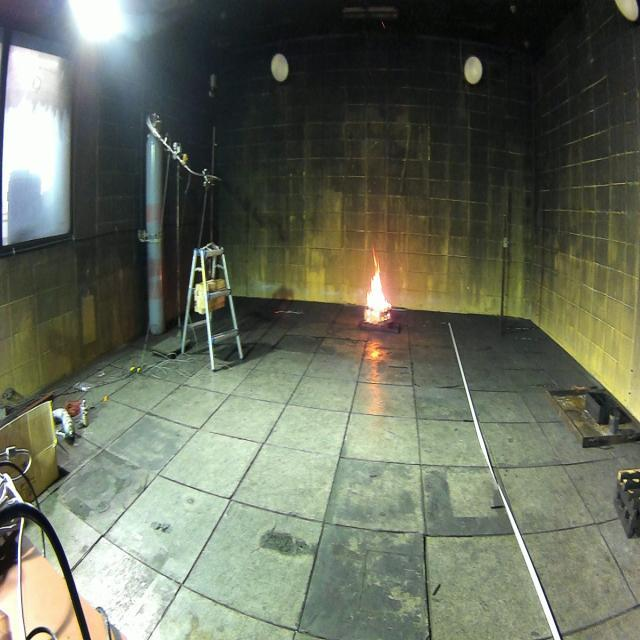Fire: (364, 247, 392, 324)
